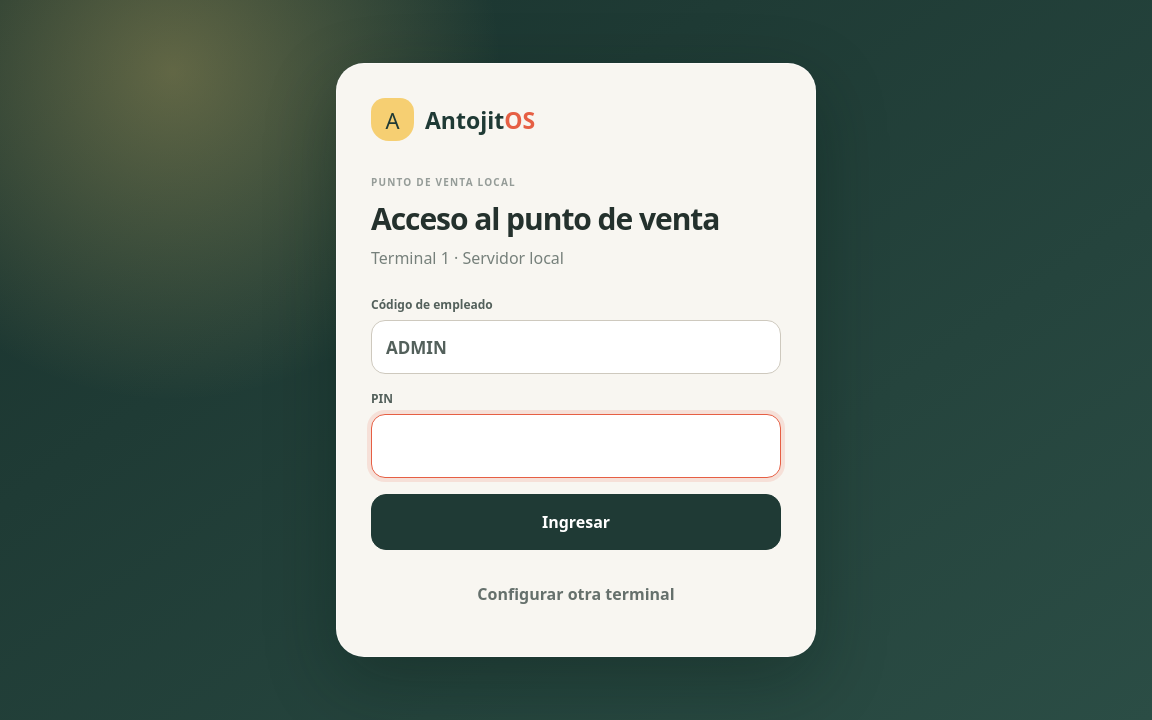
POS conectado › recarga los precios al abrir una mesa aunque el mesero ya tuviera sesión iniciada
Type "1234" into the password field labelled "PIN" at (576,446), box [371,414,781,478]
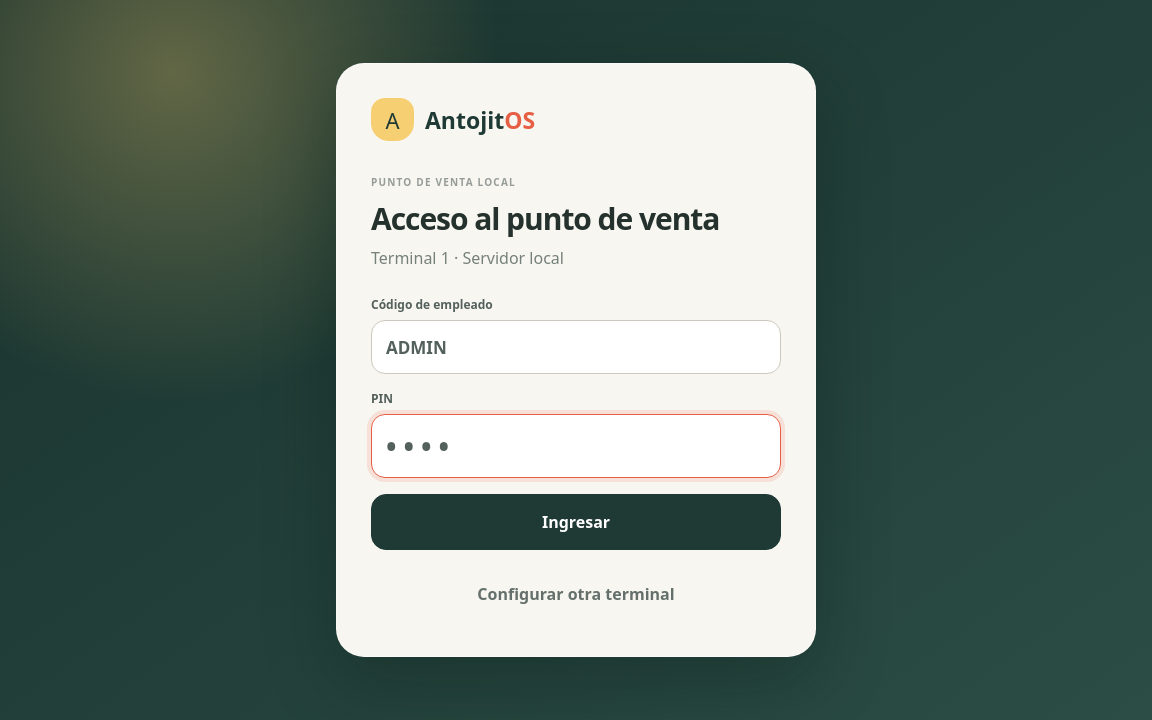
Click the button "Ingresar" at (576,522), box [371,494,781,550]
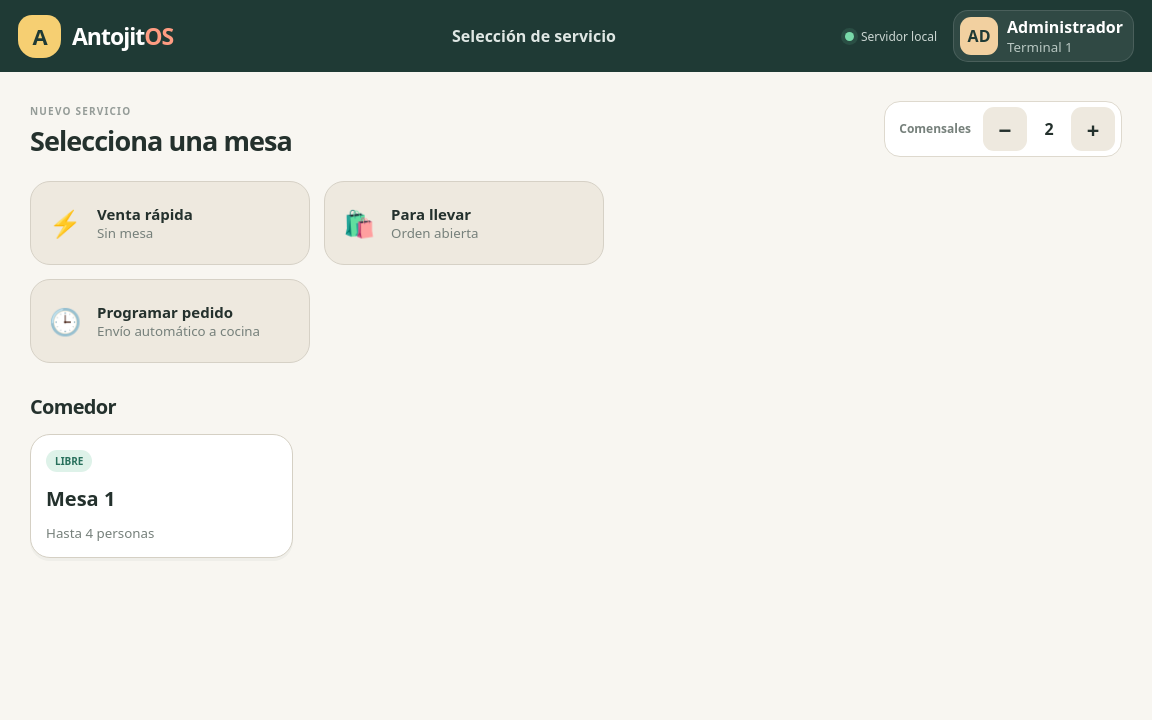
Expected: the button with aria-label "Mesa 1, libre" is shown
Click the button with aria-label "Mesa 1, libre" at (69,461), box [30,434,292,558]
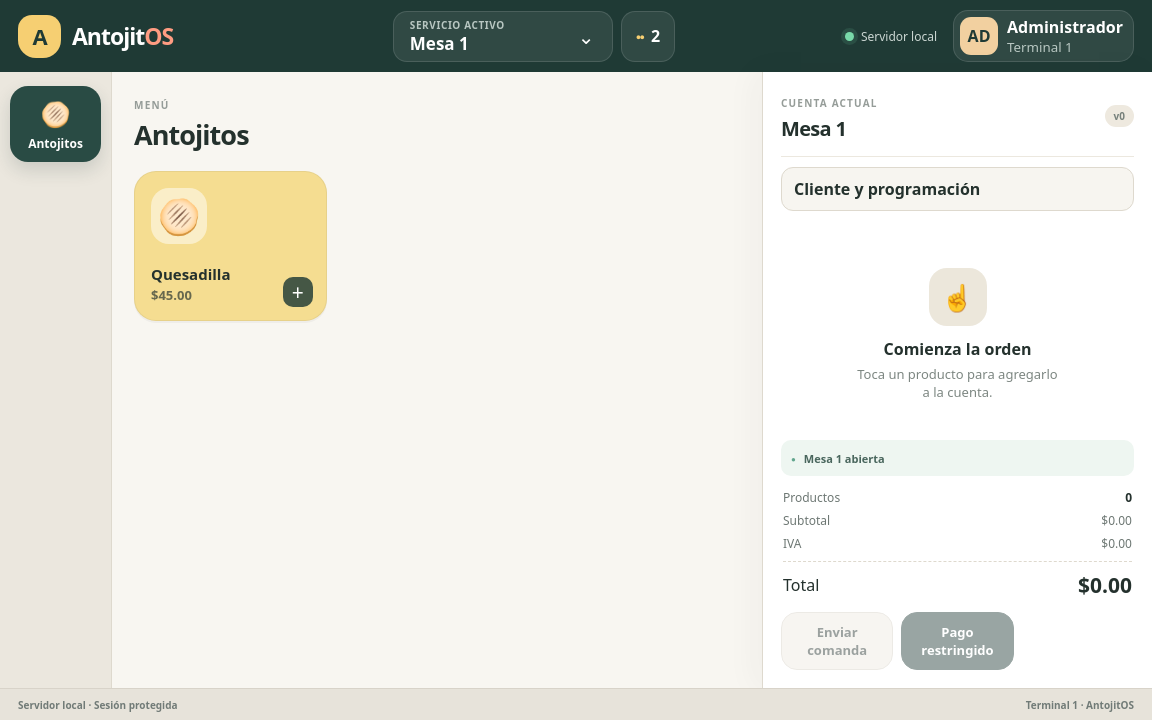
Expected: the button with aria-label "Agregar Quesadilla, $45.00" is shown, [134,171,327,321]
